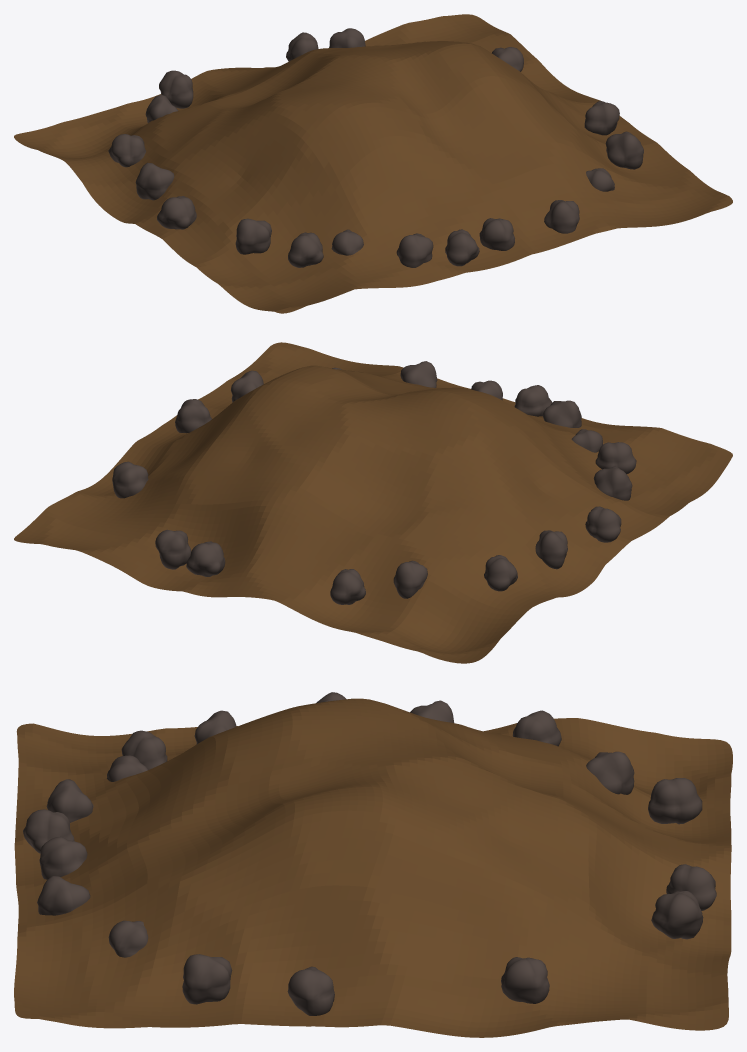
Rendered from Mound_3.fbx.
3 renders of one model, top to bottom at view 1: azimuth 30°, elevation 25°; view 2: azimuth 150°, elevation 25°; view 3: azimuth 270°, elevation 25°, orthographic. The views are drawn at different scales.
Visible parts, largest first — view 1: Plane, rocks3, rocks, rocks4; view 2: Plane, rocks, rocks3, rocks4; view 3: Plane, rocks4, rocks3, rocks.
Boxes of the visible parts, x1,y1,x2,y2 form: Plane: (14,14,732,313); rocks3: (135,94,643,267); rocks: (108,32,479,267); rocks4: (329,28,619,255); Plane: (14,342,732,663); rocks: (186,385,636,604); rocks3: (231,361,632,598); rocks4: (112,367,602,569); Plane: (14,698,732,1037); rocks4: (39,755,703,1015); rocks3: (37,700,634,1004); rocks: (23,692,716,910).
Bounding box in the file's own units: 50.91 × 12.65 × 51.63.
